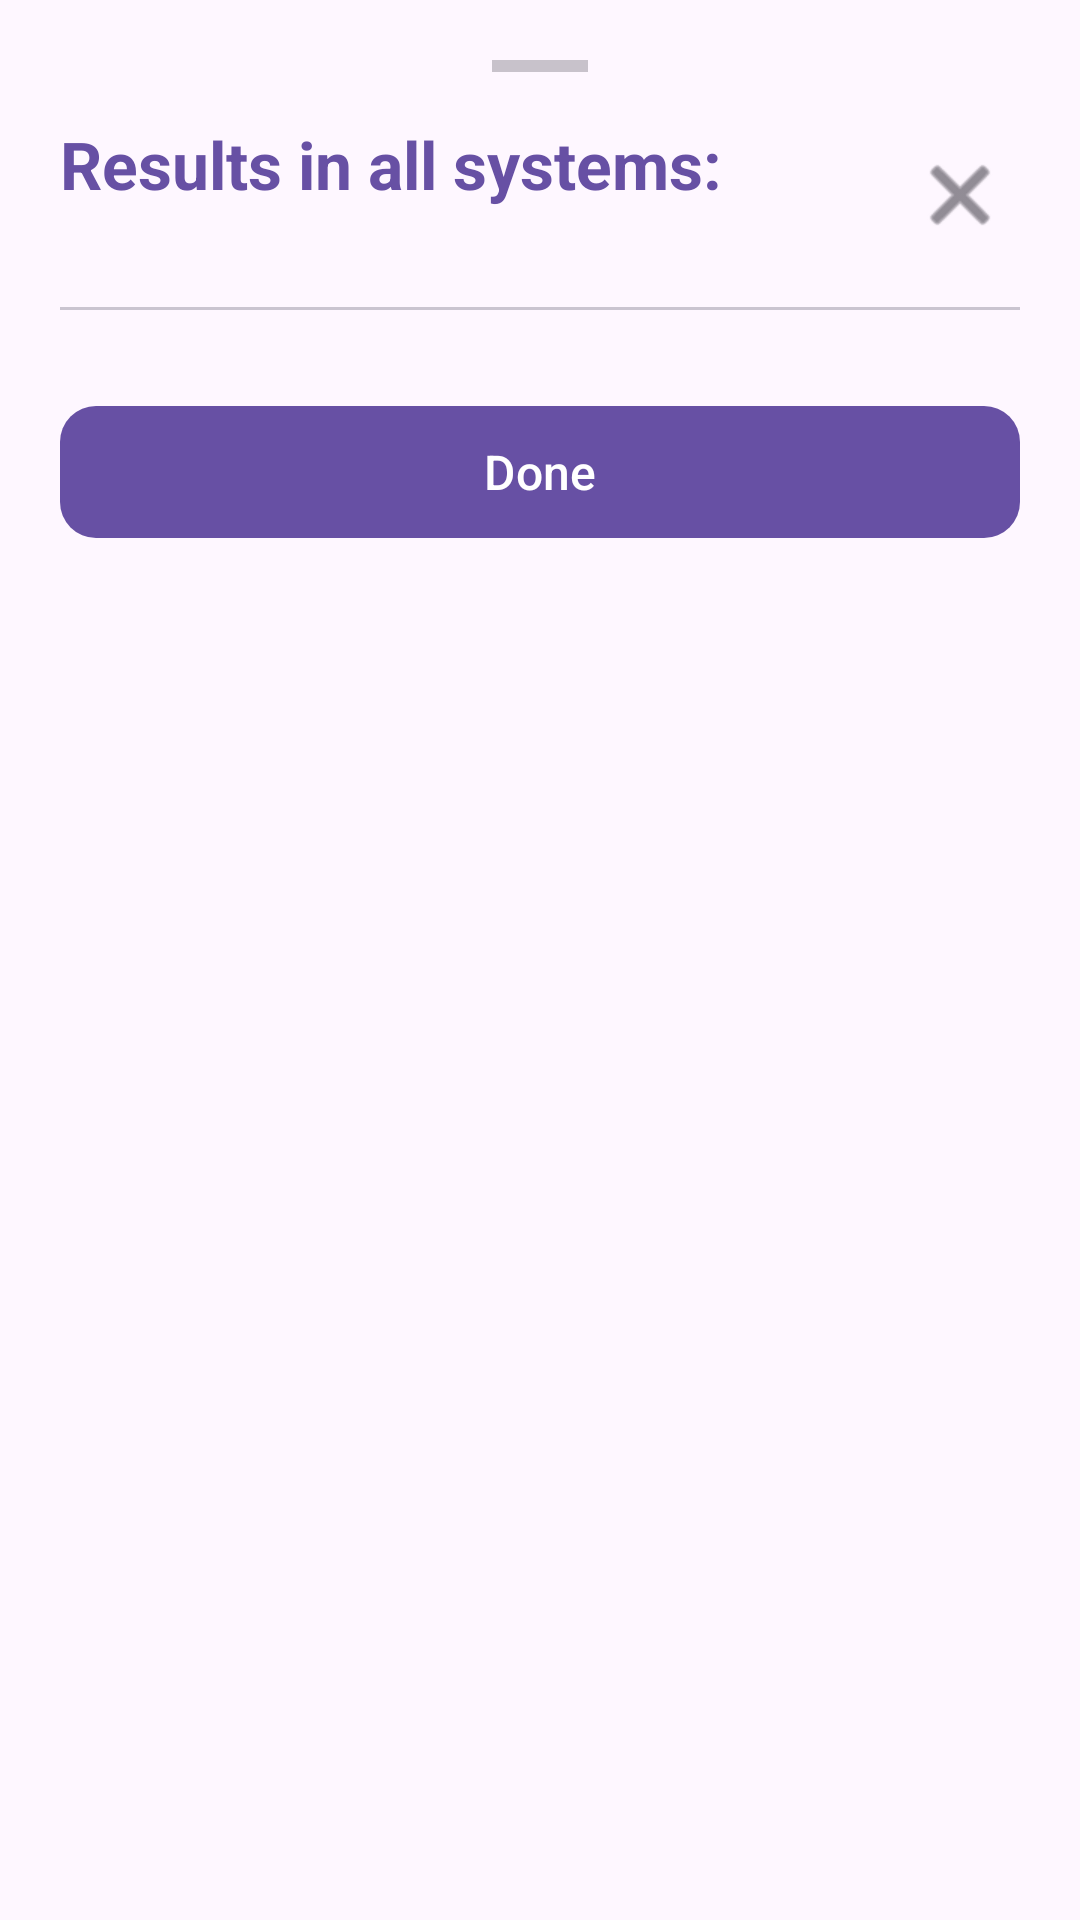

Named icons in this screenshot (1080 x 1920) and their bounding boxes, detection(x1, y1, x2, y2):
Close: detection(930, 165, 990, 225)
